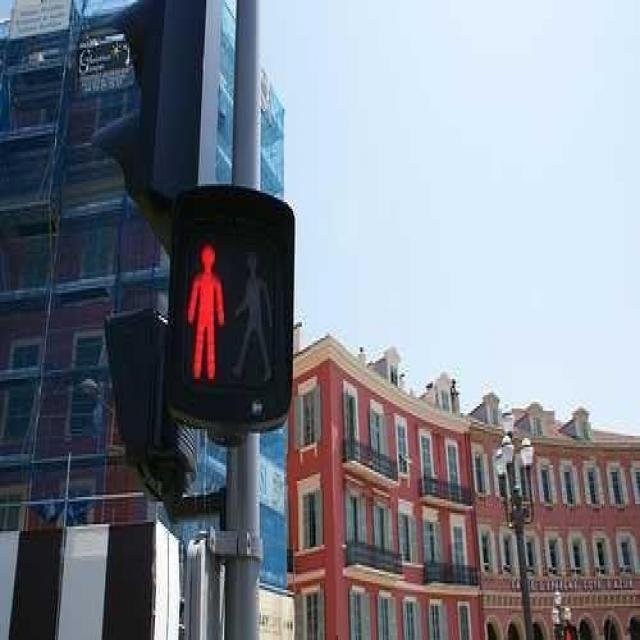red_light: (170, 184, 298, 432)
